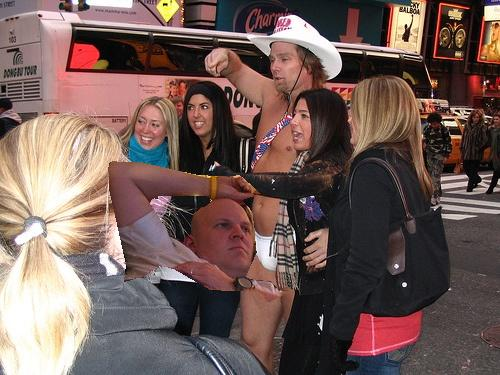tampered: (109, 162, 289, 302)
